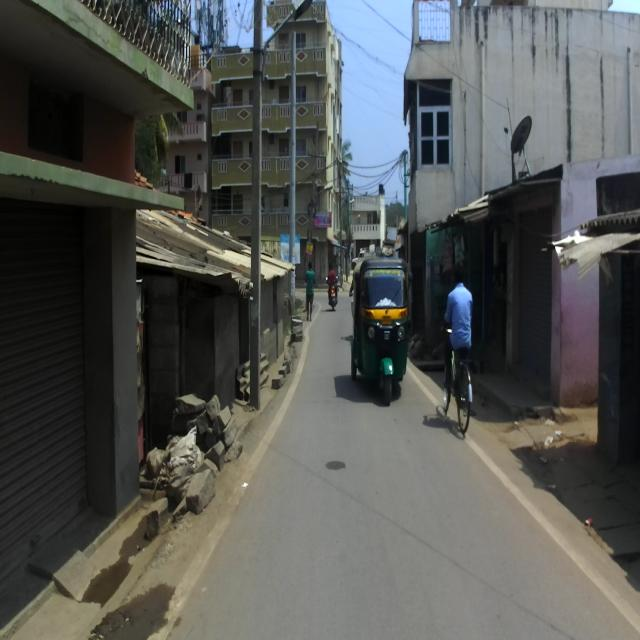auto ahead at: (351, 256, 412, 411)
bicycle ahead at: (434, 348, 478, 442)
electric pole ahead at: (237, 0, 280, 406)
stones ahead at: (169, 389, 241, 482)
